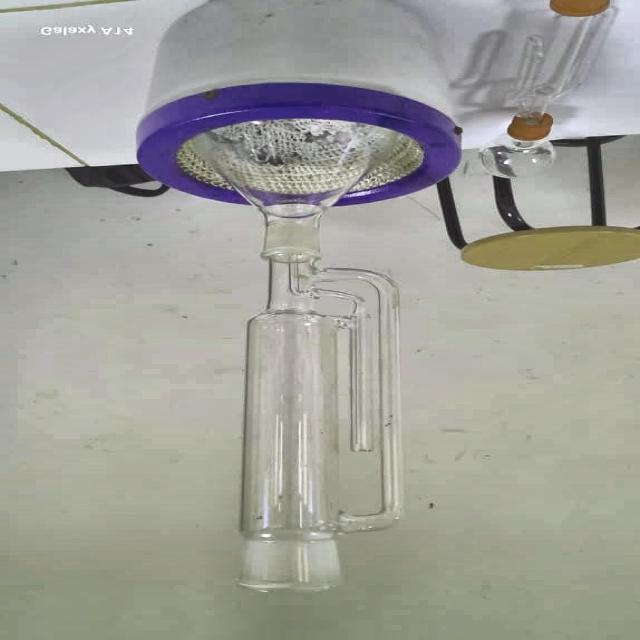Soxhlet: (193, 252, 421, 596)
